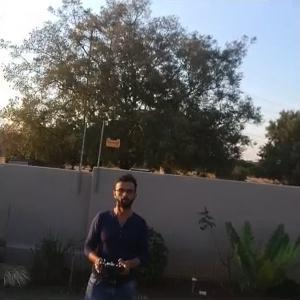follow: (76, 169, 153, 299)
